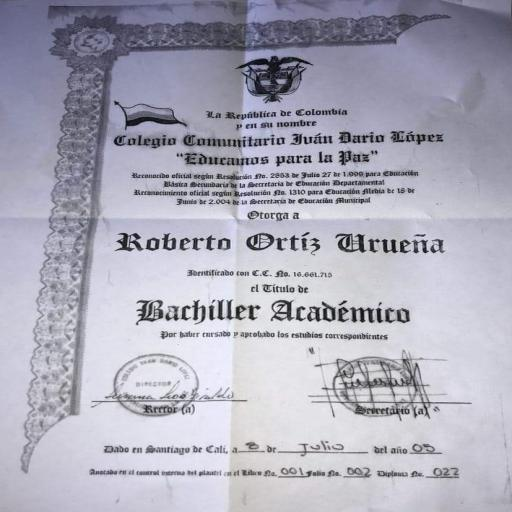bachillerato: (114, 293, 446, 336)
diploma: (0, 4, 511, 511)
escudo: (218, 49, 325, 106)
firma: (81, 350, 265, 423), (292, 350, 478, 422)
institucion: (101, 123, 473, 170)
nombre: (90, 225, 466, 267)
